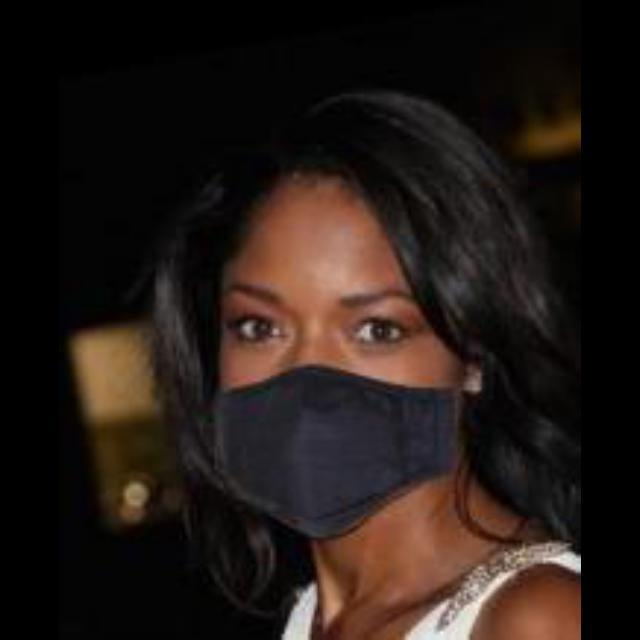suspicion: (208, 117, 512, 548)
